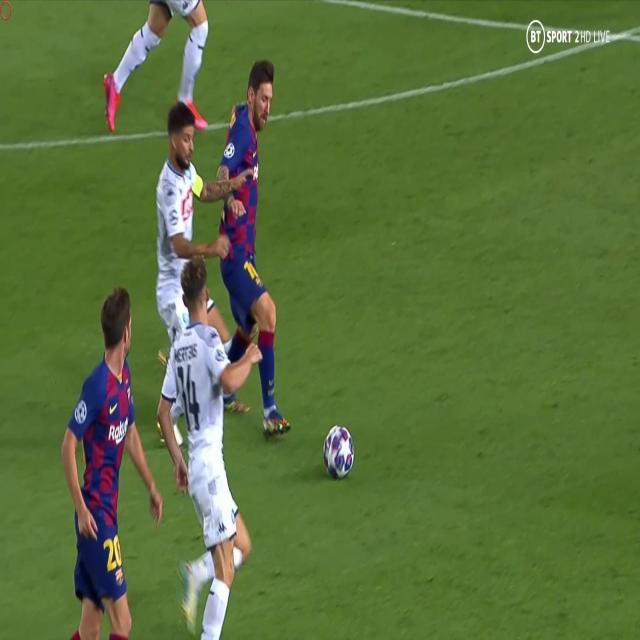ball: (319, 416, 358, 484)
player: (148, 243, 262, 638), (44, 280, 168, 640), (189, 50, 298, 457), (138, 99, 229, 436)
